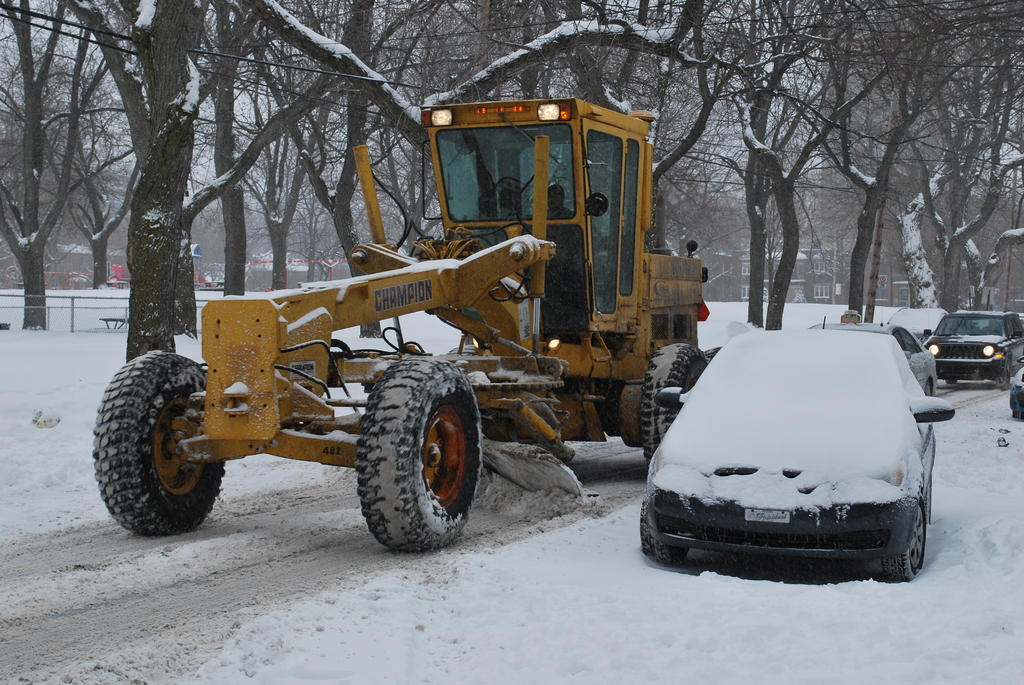Car: (623, 310, 930, 575)
